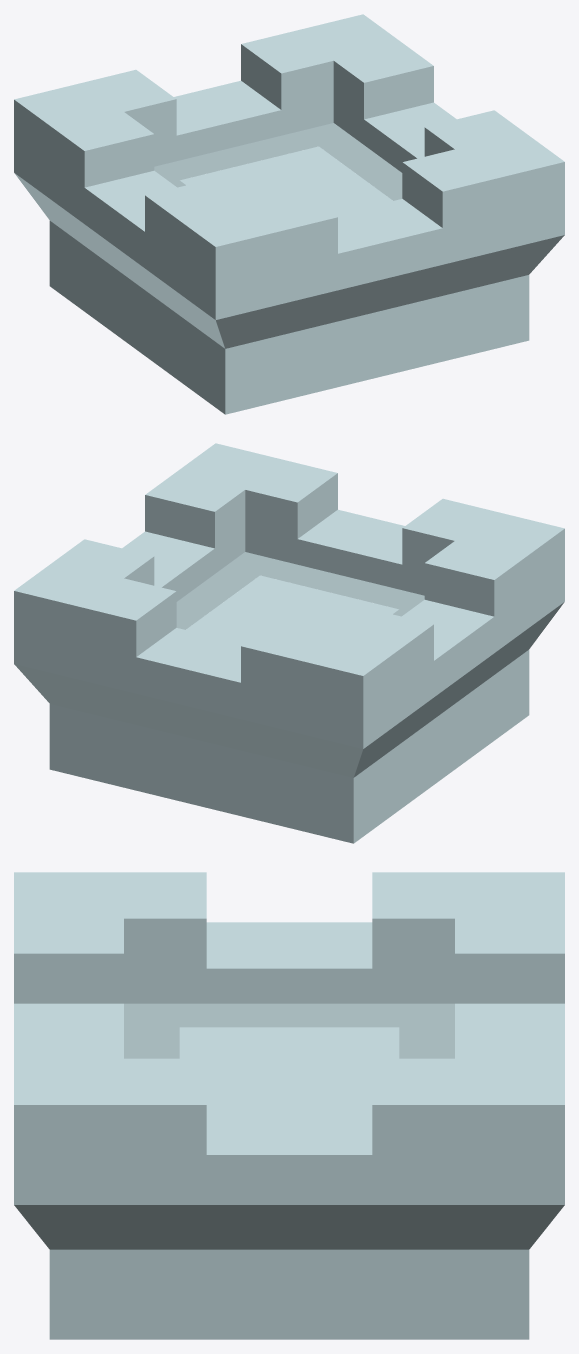
File: towerSquare_topC.glb
3 views of the same model, one above another, from view 1: azimuth 30°, elevation 25°; view 2: azimuth 150°, elevation 25°; view 3: azimuth 270°, elevation 25° (orthographic). The views are drawn at different scales.
Visible parts, largest first — view 1: towerSquare_topC; view 2: towerSquare_topC; view 3: towerSquare_topC.
Part boxes in pixels (bbox=[...]): towerSquare_topC: bbox=[14, 14, 564, 414]; towerSquare_topC: bbox=[14, 443, 564, 843]; towerSquare_topC: bbox=[14, 872, 564, 1339].
Bounding box in the file's own units: 1 × 0.5 × 1.
